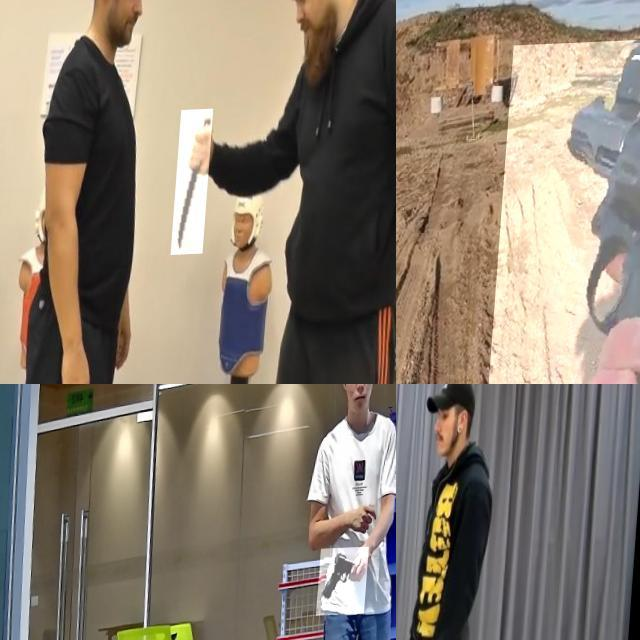-: (177, 111, 218, 258), (396, 575, 419, 640)
gun-knife-thesis - v11 Yolov5 augmented: (487, 37, 640, 384), (321, 550, 372, 619)
